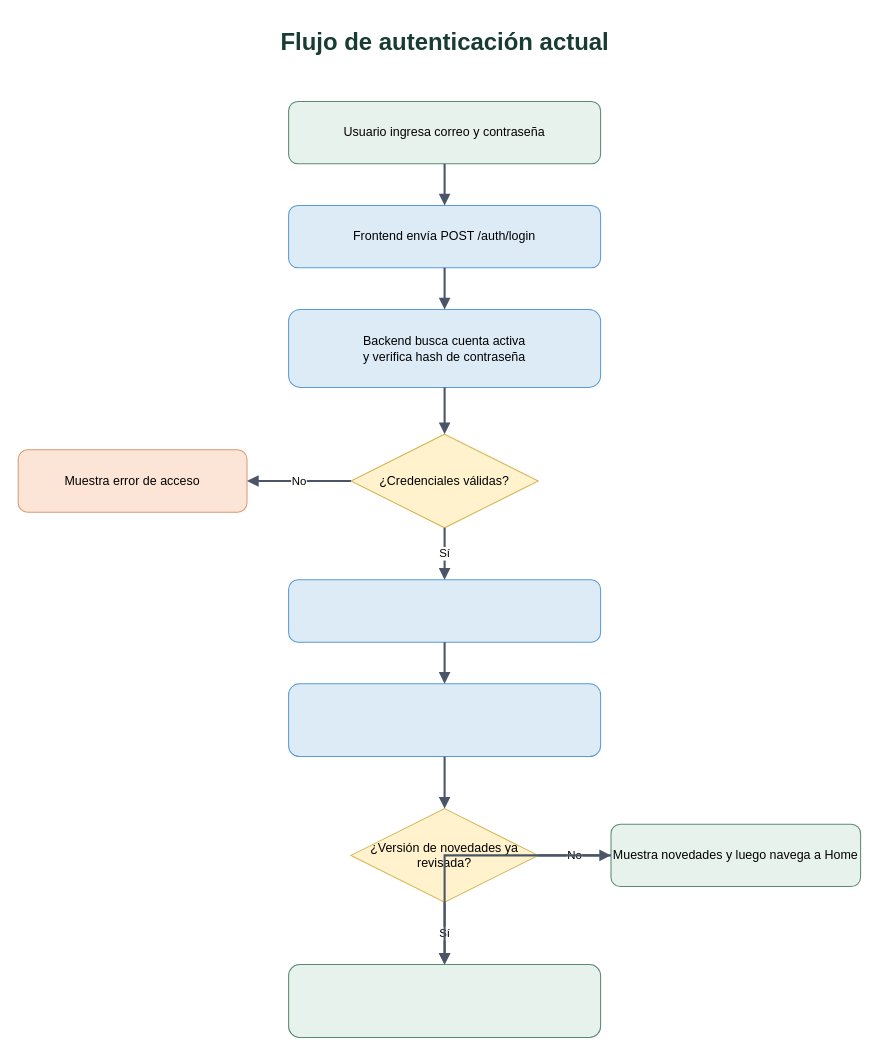
Some shapes in this 879 by 1056 pixel diagram are drawn without their labels. The box of each missing label's shape, as (x1, y1, x2, y2) in pixels:
Emite JWT y lo guarda en sesión: (288, 579, 601, 642)
Navega a Home según roles (estudiante, gestor, administrador): (288, 964, 601, 1037)
Solicita contexto del usuario (perfil y roles): (288, 683, 601, 757)
